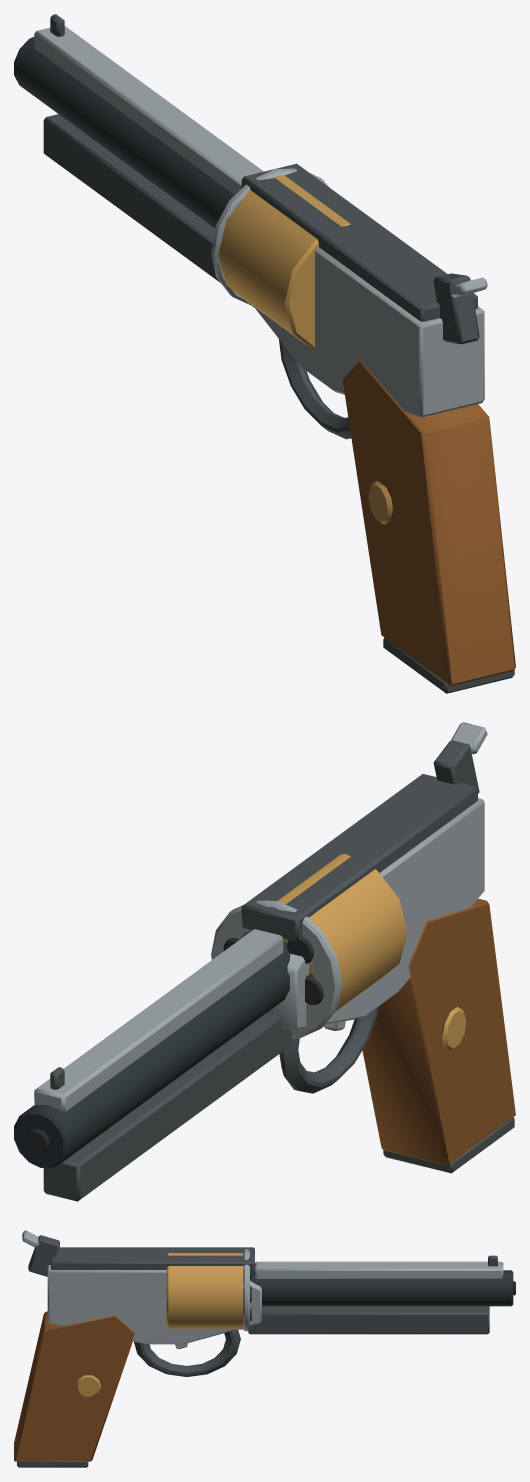
Rendered from W_Revolver.glb.
The picture shows the model from 3 angles, top to bottom: view 1: azimuth 30°, elevation 25°; view 2: azimuth 150°, elevation 25°; view 3: azimuth 270°, elevation 25°; orthographic projection. The views are drawn at different scales.
Visible parts, largest first — view 1: W_Revolver; view 2: W_Revolver; view 3: W_Revolver.
Part boxes in pixels (box(x1,y1,x2,y2)): W_Revolver: box(14, 14, 515, 693); W_Revolver: box(14, 722, 515, 1201); W_Revolver: box(14, 1230, 515, 1467).
Bounding box in the file's own units: 0.049 × 0.1462 × 0.2953.
